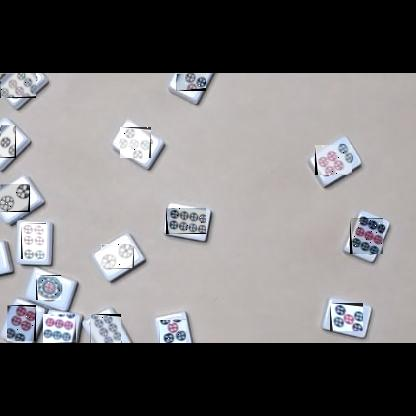1p: (36, 275, 61, 300)
2p: (0, 184, 30, 212), (101, 244, 134, 269)
4p: (0, 125, 16, 158)
5p: (120, 127, 151, 158), (330, 303, 363, 331), (159, 319, 186, 343), (176, 73, 206, 91)
6p: (315, 145, 352, 175), (7, 305, 36, 341), (21, 223, 46, 259)
8p: (166, 208, 206, 234), (90, 314, 121, 343)
9p: (350, 218, 383, 254), (43, 314, 76, 343), (0, 73, 36, 98)
